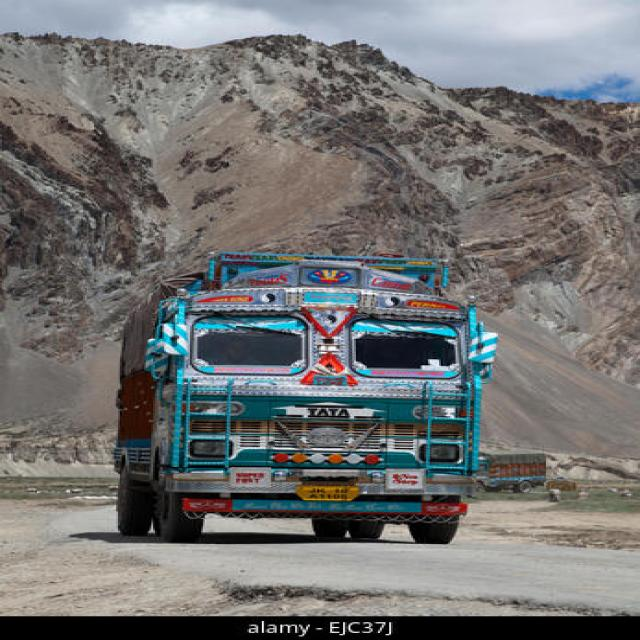normal_truck: (115, 252, 498, 543)
